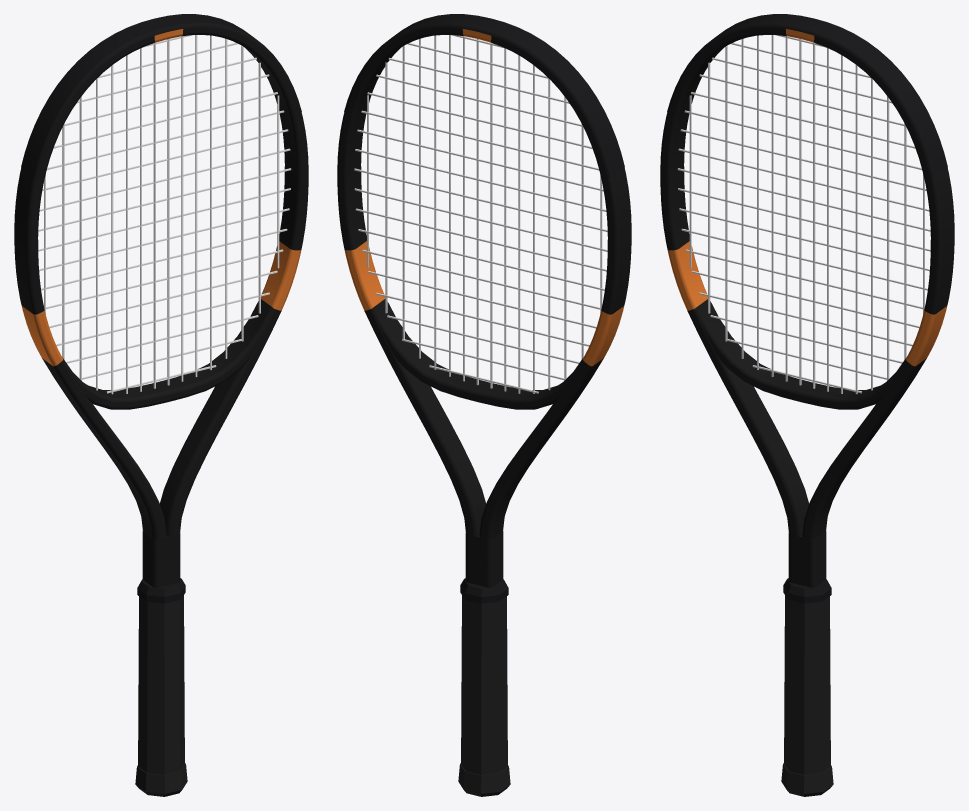
File: prince-tour-100-275g-2026.glb
3 views of the same model, side by side, from view 1: azimuth 30°, elevation 25°; view 2: azimuth 150°, elevation 25°; view 3: azimuth 330°, elevation 25° (orthographic).
Visible parts, largest first — view 1: frame, strings_mains, strings_crosses, grip, bumper, butt_cap, collar; view 2: frame, strings_mains, strings_crosses, grip, bumper, butt_cap, collar; view 3: frame, strings_mains, strings_crosses, grip, bumper, butt_cap, collar.
Boxes of the visible parts, box(x1,y1,x2,y2) form: frame: box(14, 27, 308, 587); strings_mains: box(44, 35, 279, 394); strings_crosses: box(38, 35, 291, 393); grip: box(138, 595, 184, 774); bumper: box(21, 14, 301, 177); butt_cap: box(135, 763, 187, 796); collar: box(137, 578, 185, 603); frame: box(337, 27, 631, 587); strings_mains: box(367, 35, 602, 393); strings_crosses: box(354, 35, 607, 393); grip: box(461, 595, 507, 774); bumper: box(344, 14, 624, 177); butt_cap: box(458, 763, 510, 796); collar: box(460, 578, 508, 603); frame: box(660, 27, 954, 587); strings_mains: box(689, 35, 924, 394); strings_crosses: box(677, 35, 930, 393); grip: box(784, 595, 830, 774); bumper: box(667, 14, 947, 177); butt_cap: box(781, 763, 833, 796); collar: box(783, 578, 831, 603).
Bounding box in the file's own units: 0.2649 × 0.6861 × 0.0396.
